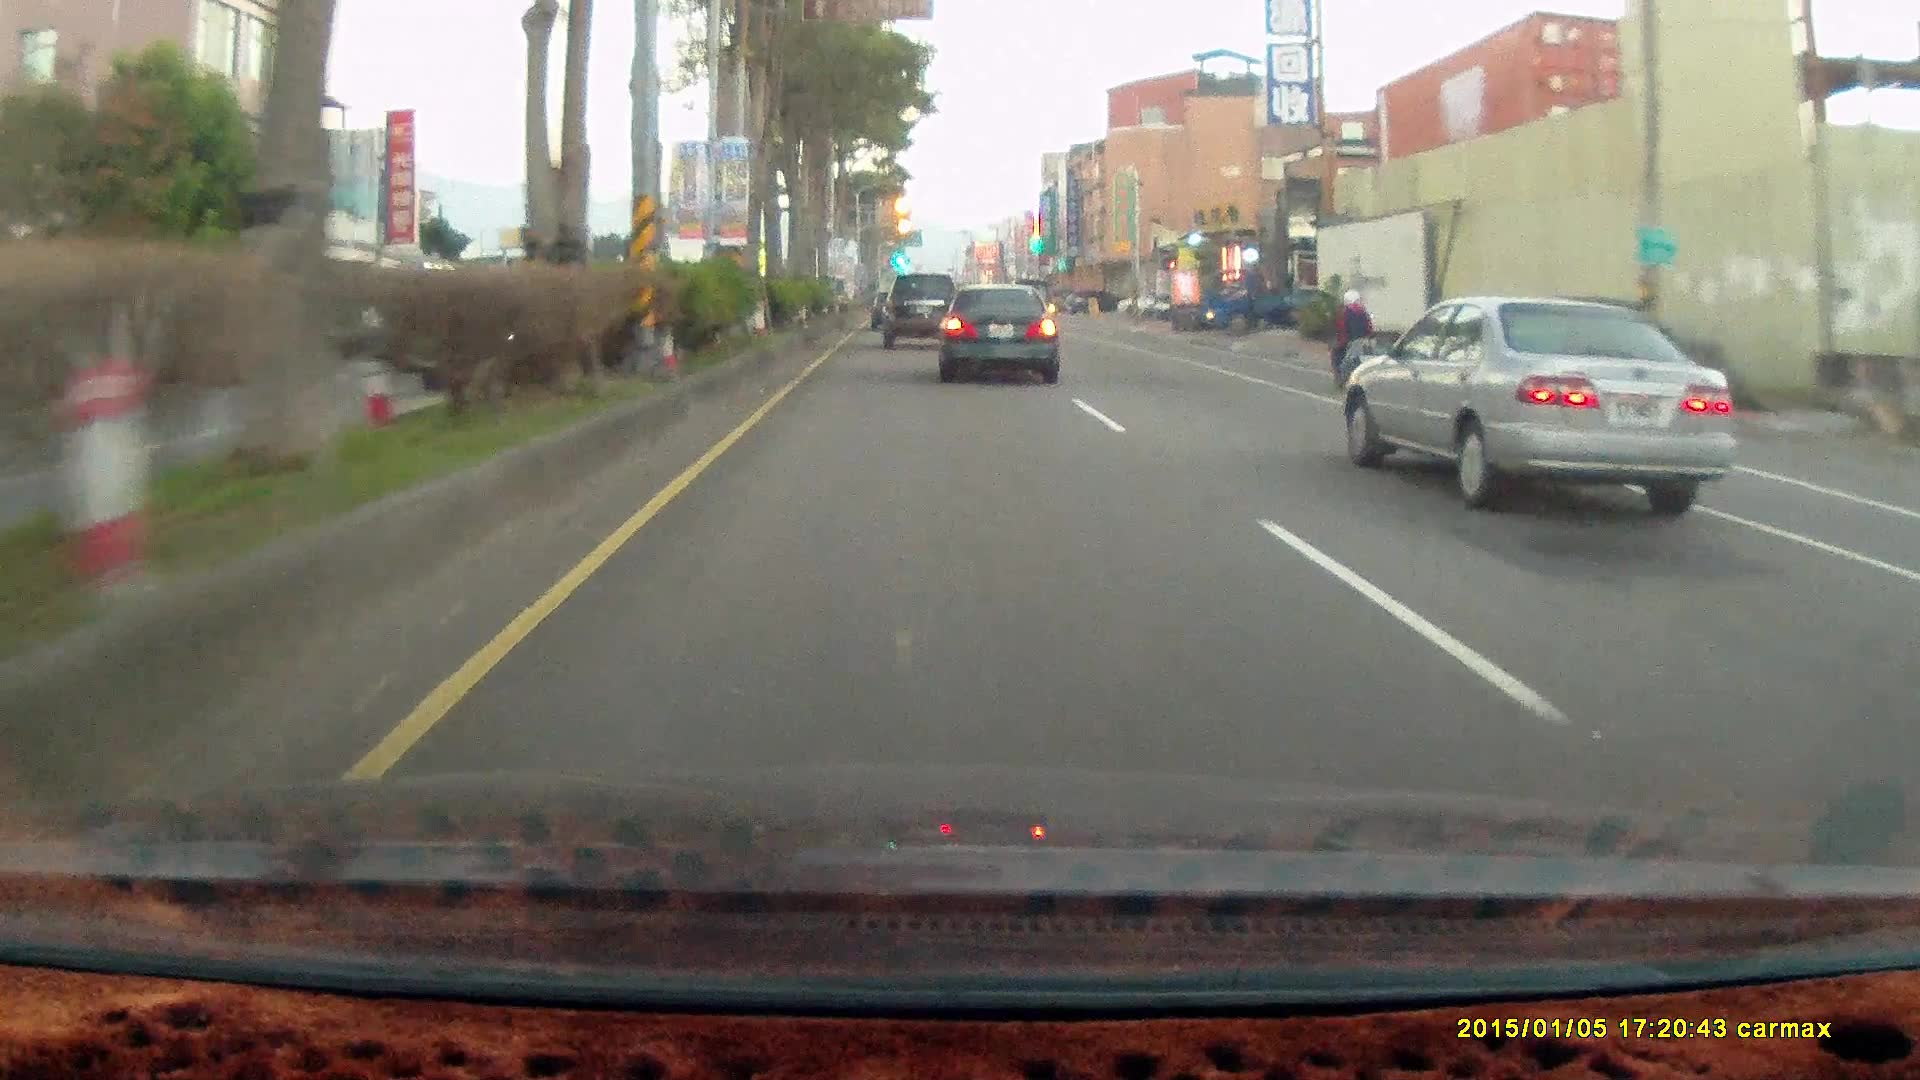rider: (1319, 282, 1385, 399), (1328, 286, 1386, 393)
vehicle: (1341, 294, 1733, 516), (1346, 302, 1740, 515), (934, 285, 1060, 384), (942, 295, 1068, 392), (1201, 265, 1328, 338), (1201, 269, 1329, 336), (887, 275, 964, 352), (883, 275, 963, 350), (1069, 292, 1122, 315), (1113, 293, 1166, 317)
